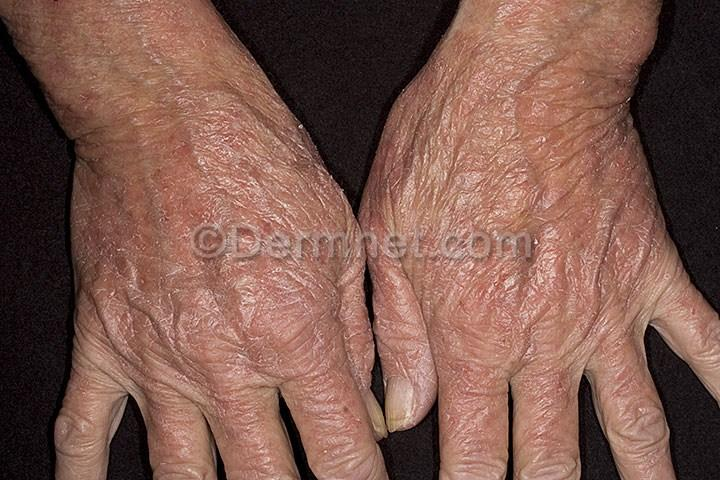Eczema: (404, 68, 644, 322), (84, 93, 292, 363), (294, 326, 369, 429), (289, 184, 348, 304), (436, 358, 509, 451), (233, 368, 294, 471), (510, 349, 575, 442), (593, 329, 661, 407), (661, 277, 720, 351), (159, 382, 202, 452)
